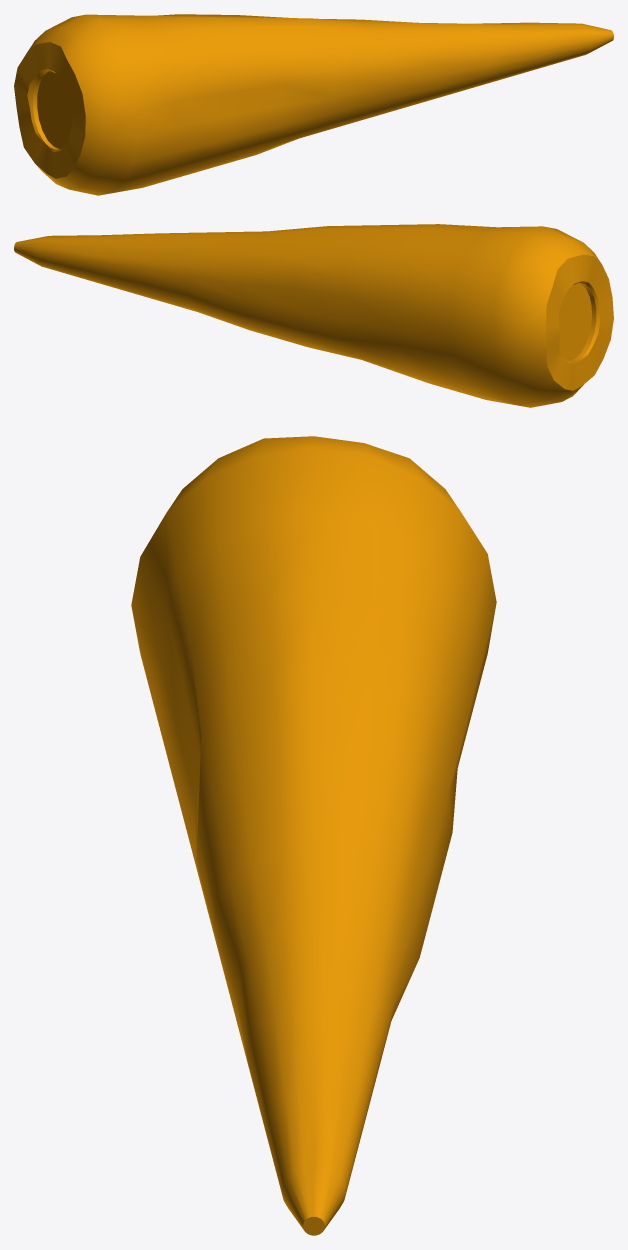
File: mesh_FullCarrot.fbx
3 renders of one model, top to bottom at view 1: azimuth 30°, elevation 25°; view 2: azimuth 150°, elevation 25°; view 3: azimuth 270°, elevation 25°, orthographic. The views are drawn at different scales.
Parts seen in each view (by area): view 1: mesh_carrot_stage1; view 2: mesh_carrot_stage1; view 3: mesh_carrot_stage1.
Boxes of the visible parts, x1,y1,x2,y2 form: mesh_carrot_stage1: (14, 14, 613, 195); mesh_carrot_stage1: (14, 224, 613, 407); mesh_carrot_stage1: (131, 436, 496, 1235).
Size of the model in its own units: 0.1831 by 0.0519 by 0.051.
